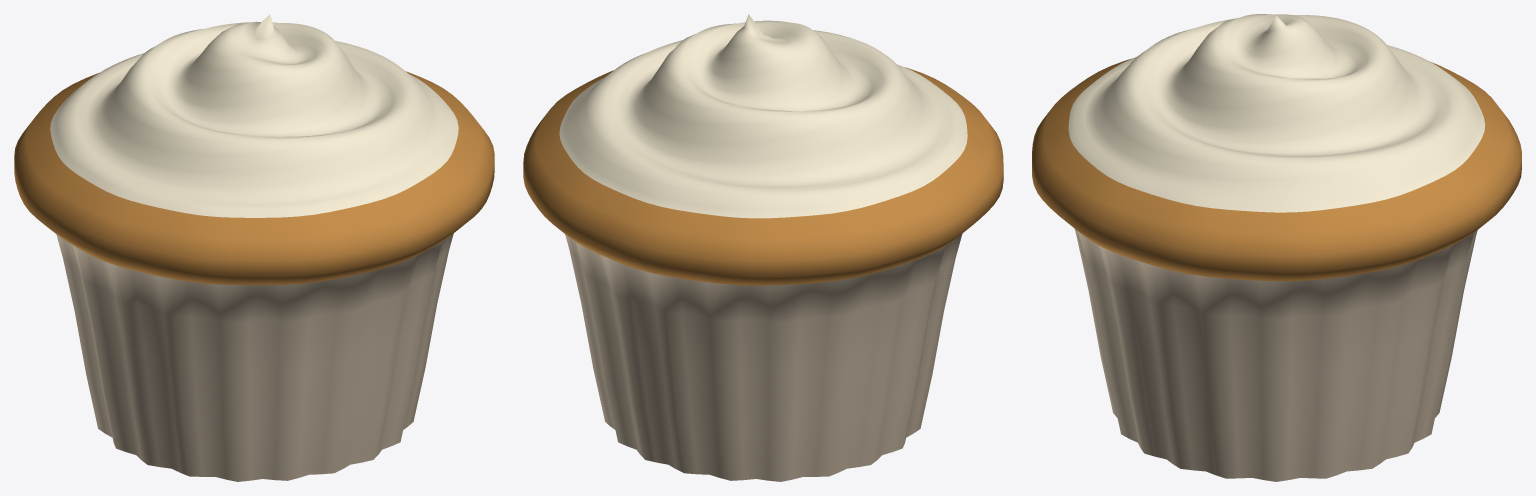
The picture shows the model from 3 angles, left to right: view 1: azimuth 30°, elevation 25°; view 2: azimuth 150°, elevation 25°; view 3: azimuth 270°, elevation 25°; orthographic projection. The views are drawn at different scales.
Parts seen in each view (by area): view 1: NEW336_WholeCupcake_LOD2; view 2: NEW336_WholeCupcake_LOD2; view 3: NEW336_WholeCupcake_LOD2.
Boxes of the visible parts, left/top/right/bottom form: NEW336_WholeCupcake_LOD2: left=14, top=14, right=494, bottom=481; NEW336_WholeCupcake_LOD2: left=523, top=14, right=1003, bottom=481; NEW336_WholeCupcake_LOD2: left=1032, top=14, right=1521, bottom=481.
Bounding box in the file's own units: 0.08 × 0.073 × 0.08.
